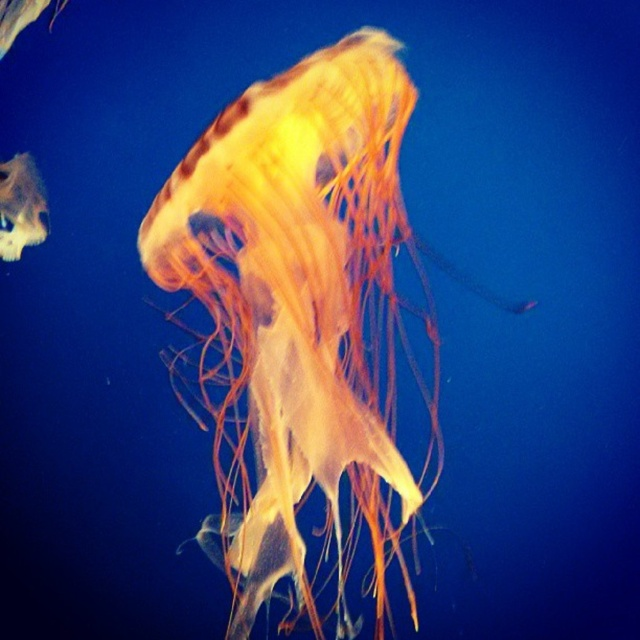Jellyfish: (132, 51, 544, 632)
